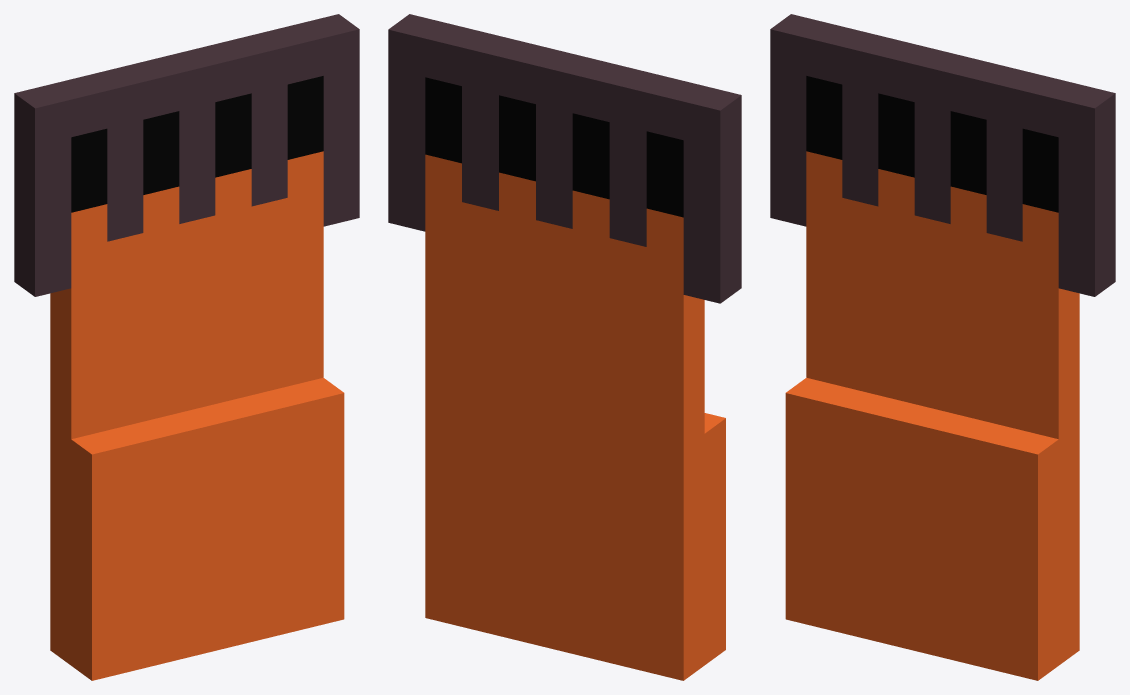
Rendered from wall_grate_b_passing_lava.obj.
3 renders of one model, left to right at view 1: azimuth 30°, elevation 25°; view 2: azimuth 150°, elevation 25°; view 3: azimuth 330°, elevation 25°, orthographic. The views are drawn at different scales.
Size of the model in its own units: 0.9 by 1.5 by 0.2.
1 material, 1 textured.
